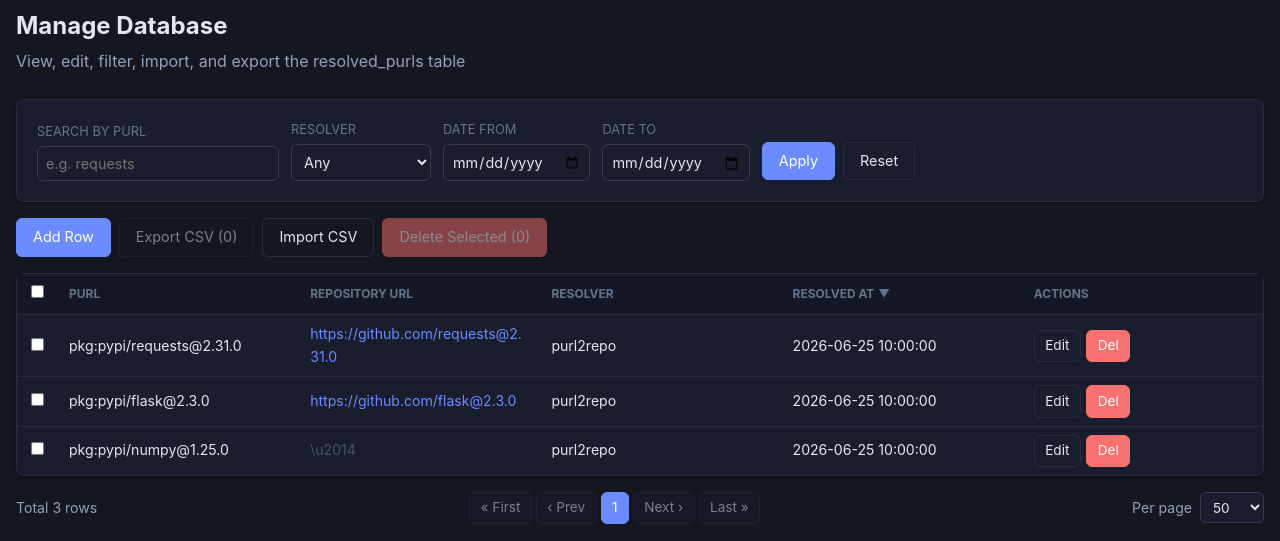
DatabaseAdmin.vue › selects all rows when header checkbox is clicked
The image size is (1280, 541).
Click the checkbox in the row of "Repository URL". click: (37, 292)
box: [30,285,44,298]
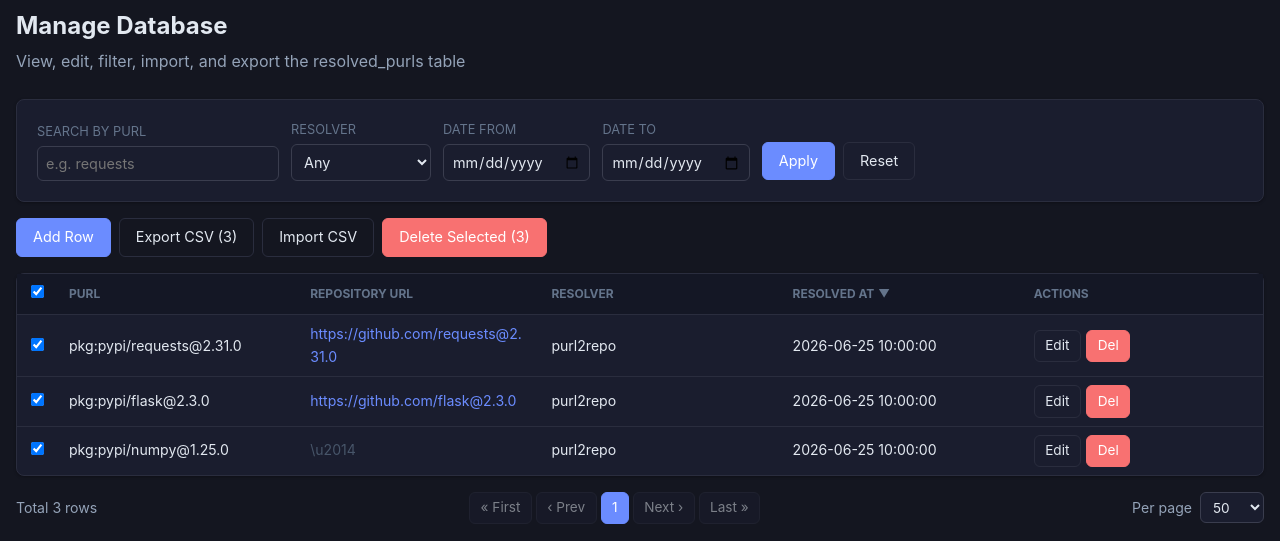
Result: the button "Export CSV (3)" is shown at [119,218,254,257]
